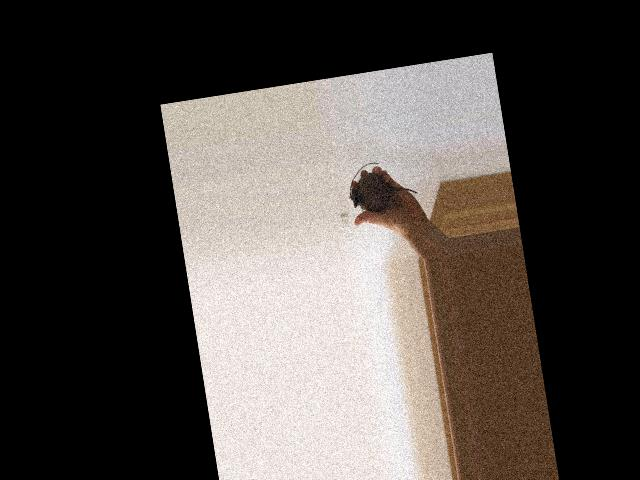beet: (344, 155, 419, 213)
